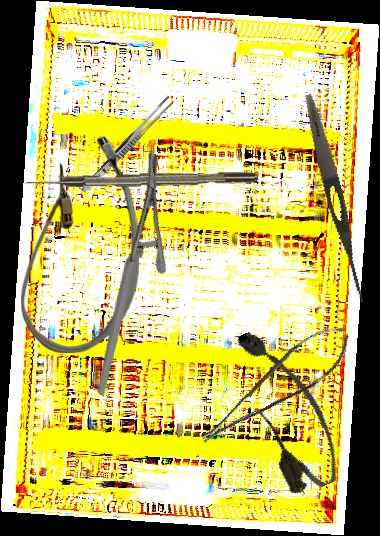Cannula: (21, 136, 139, 353), (226, 317, 349, 500)
Dressing Forceps: (299, 92, 373, 306), (78, 94, 176, 196)
Hook Surgical: (22, 171, 259, 189)
Micro Scissor: (183, 317, 363, 449)
Needle Holder: (25, 150, 228, 397)
